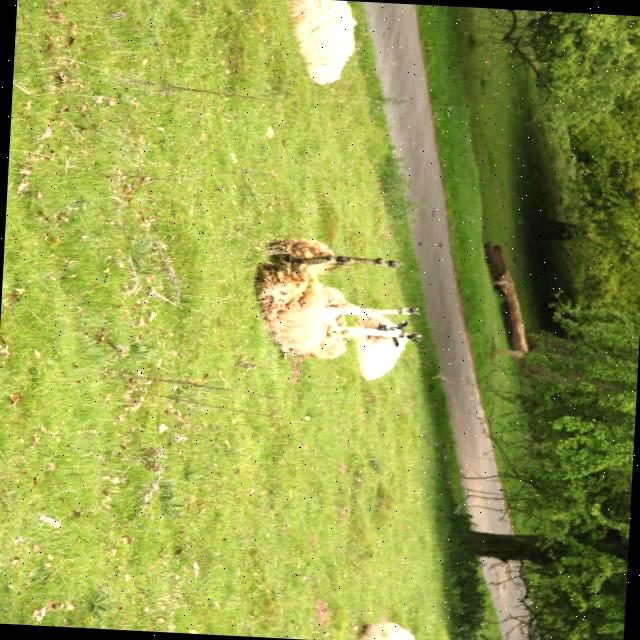sheep: (253, 237, 421, 358), (290, 0, 356, 84), (357, 314, 407, 378), (359, 622, 416, 640)
